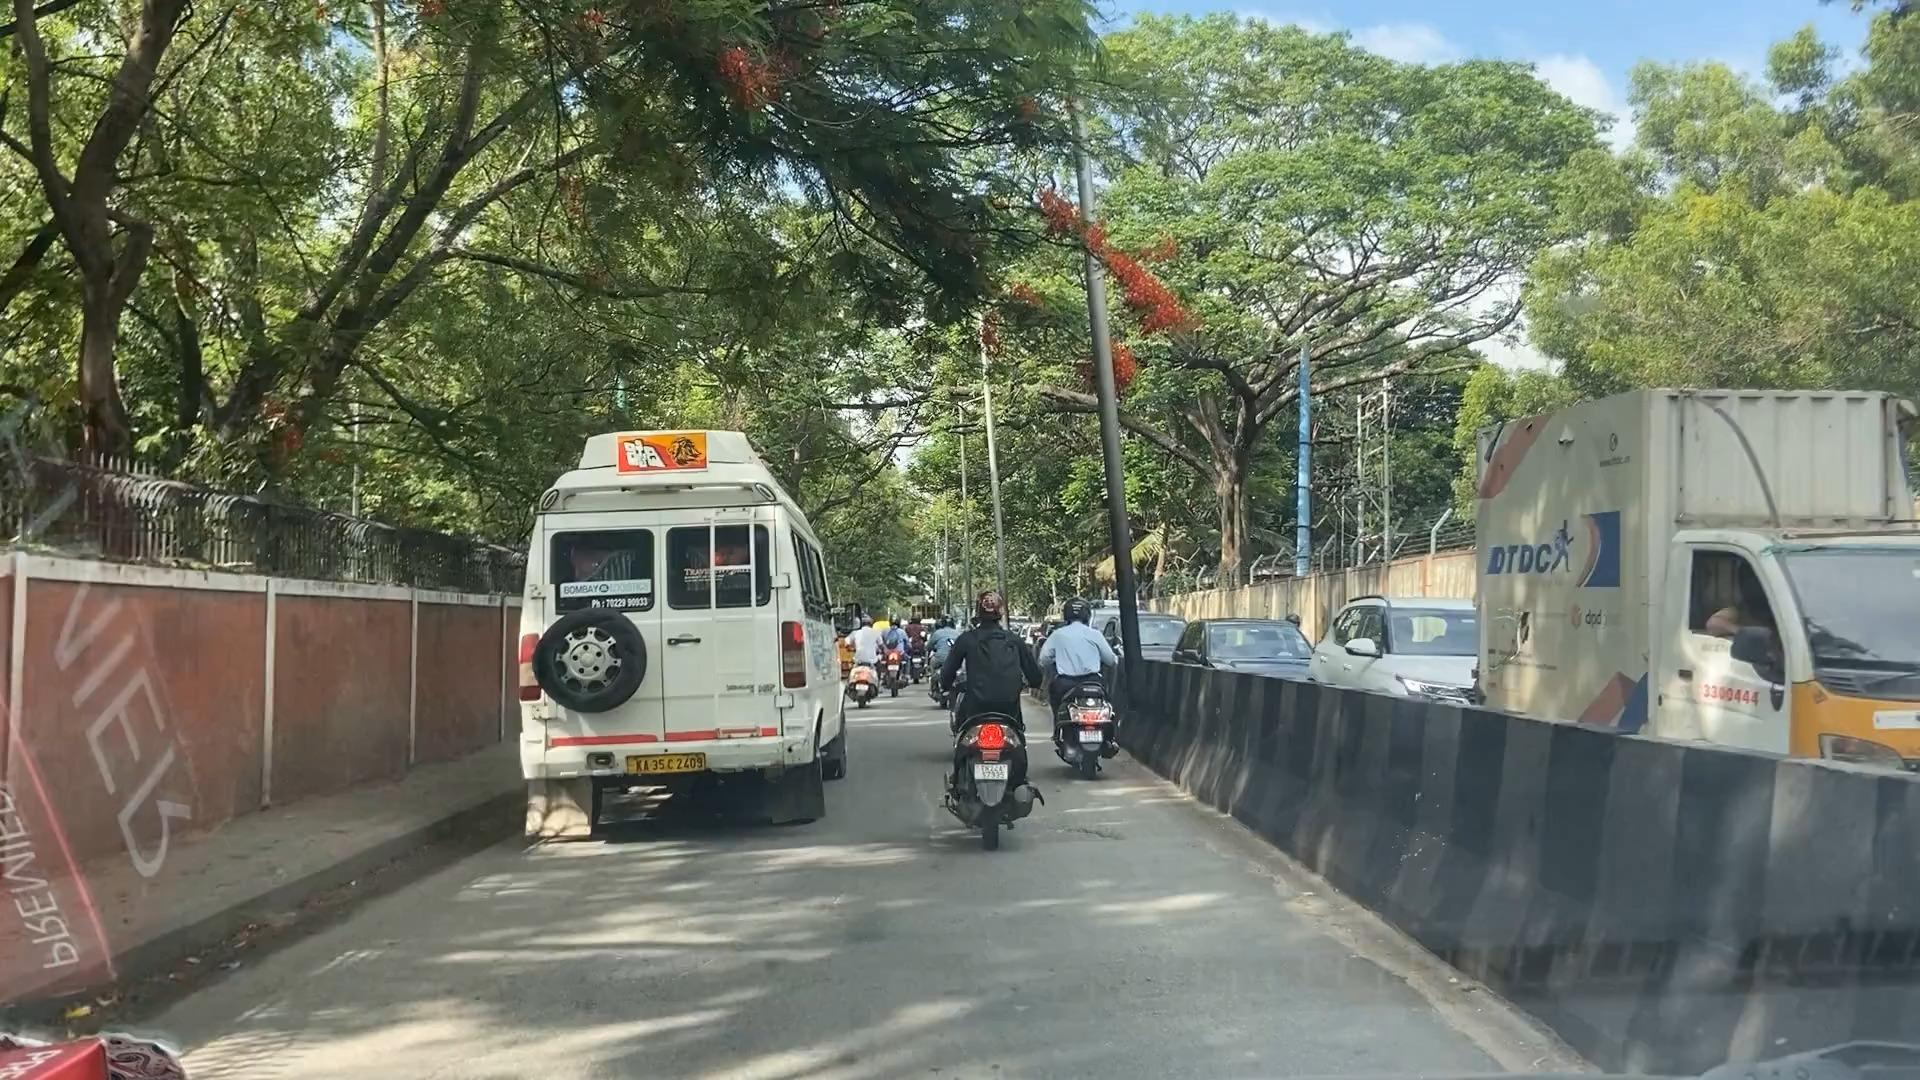HMV: (520, 427, 806, 808)
LMV: (949, 580, 1021, 820), (1056, 576, 1106, 756)
